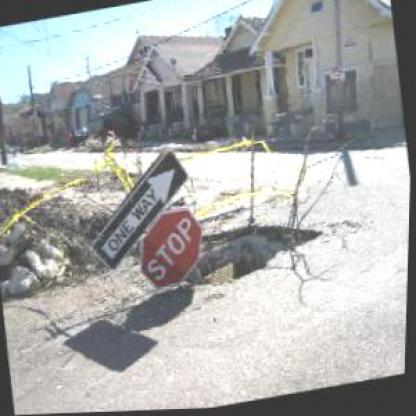pothole: (173, 206, 333, 296)
